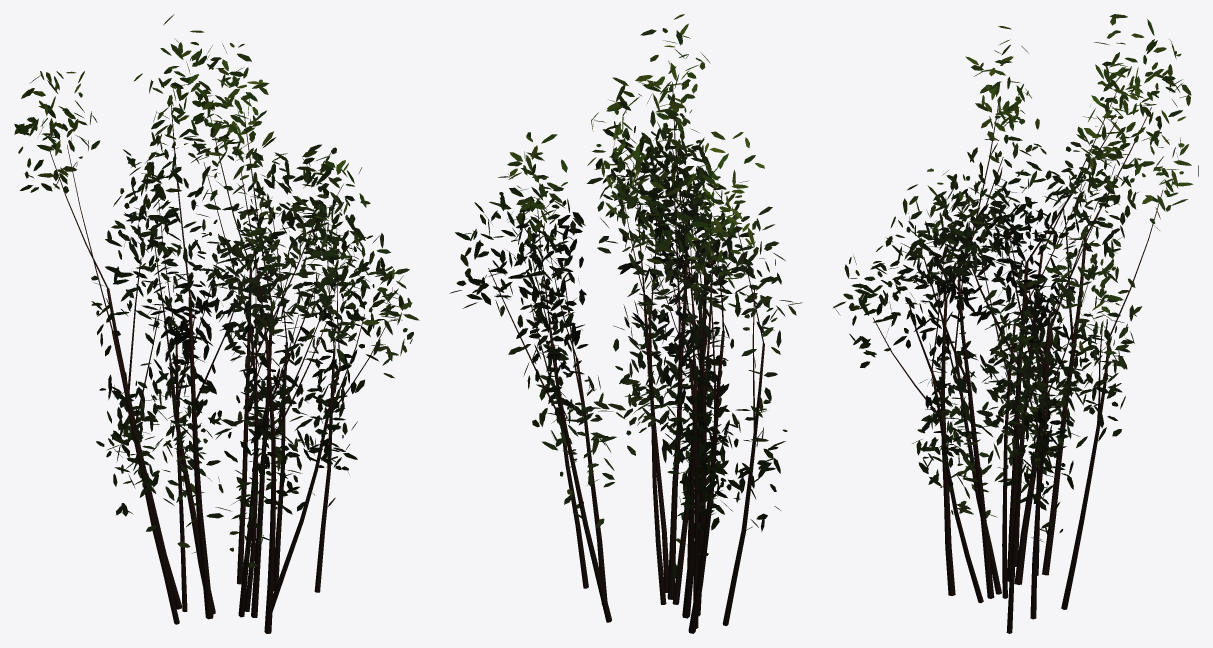
File: SM_Willow.fbx
The picture shows the model from 3 angles, left to right: view 1: azimuth 30°, elevation 25°; view 2: azimuth 150°, elevation 25°; view 3: azimuth 270°, elevation 25°; orthographic projection. The views are drawn at different scales.
Visible parts, largest first — view 1: SM_Willow; view 2: SM_Willow; view 3: SM_Willow.
Part boxes in pixels (bbox=[...]): SM_Willow: bbox=[14, 14, 419, 633]; SM_Willow: bbox=[449, 14, 802, 633]; SM_Willow: bbox=[832, 14, 1198, 633].
Size of the model in its own units: 3.36 by 5.97 by 3.52.
